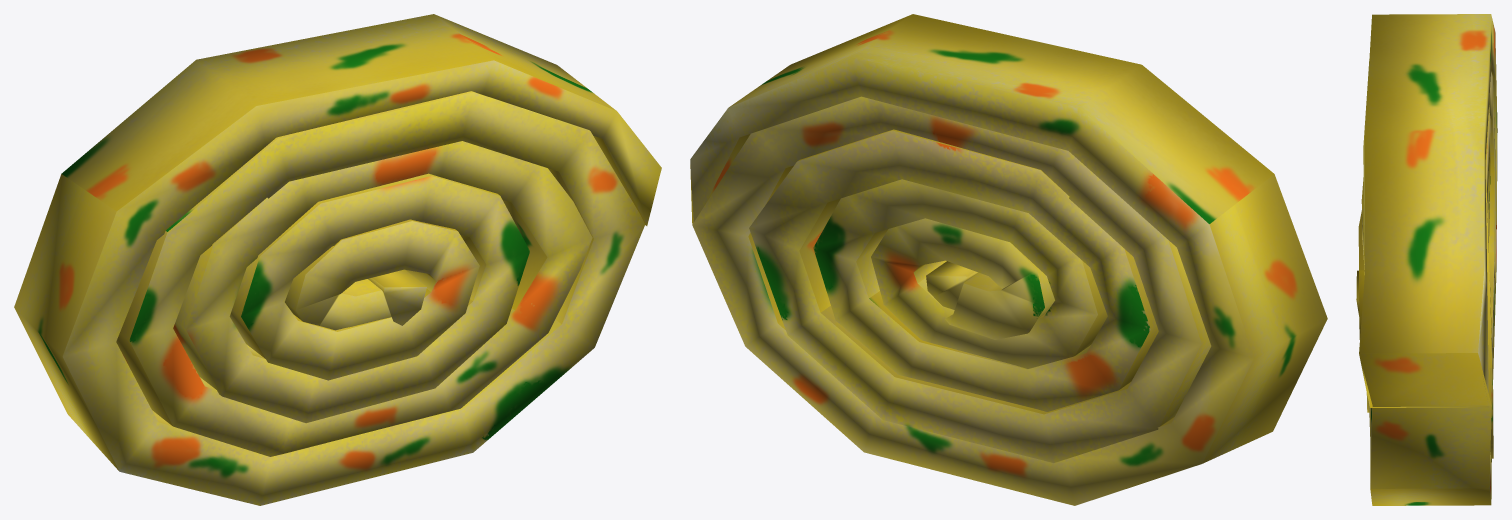
Rendered from eggroll.fbx.
3 views of the same model, side by side, from view 1: azimuth 30°, elevation 25°; view 2: azimuth 150°, elevation 25°; view 3: azimuth 270°, elevation 25° (orthographic). The views are drawn at different scales.
Visible parts, largest first — view 1: Egg Roll_single; view 2: Egg Roll_single; view 3: Egg Roll_single.
Boxes of the visible parts, <box> form: Egg Roll_single: <box>14,14,661,505</box>; Egg Roll_single: <box>690,14,1327,505</box>; Egg Roll_single: <box>1356,14,1497,505</box>.
Bounding box in the file's own units: 63.5 × 41.37 × 13.52.
